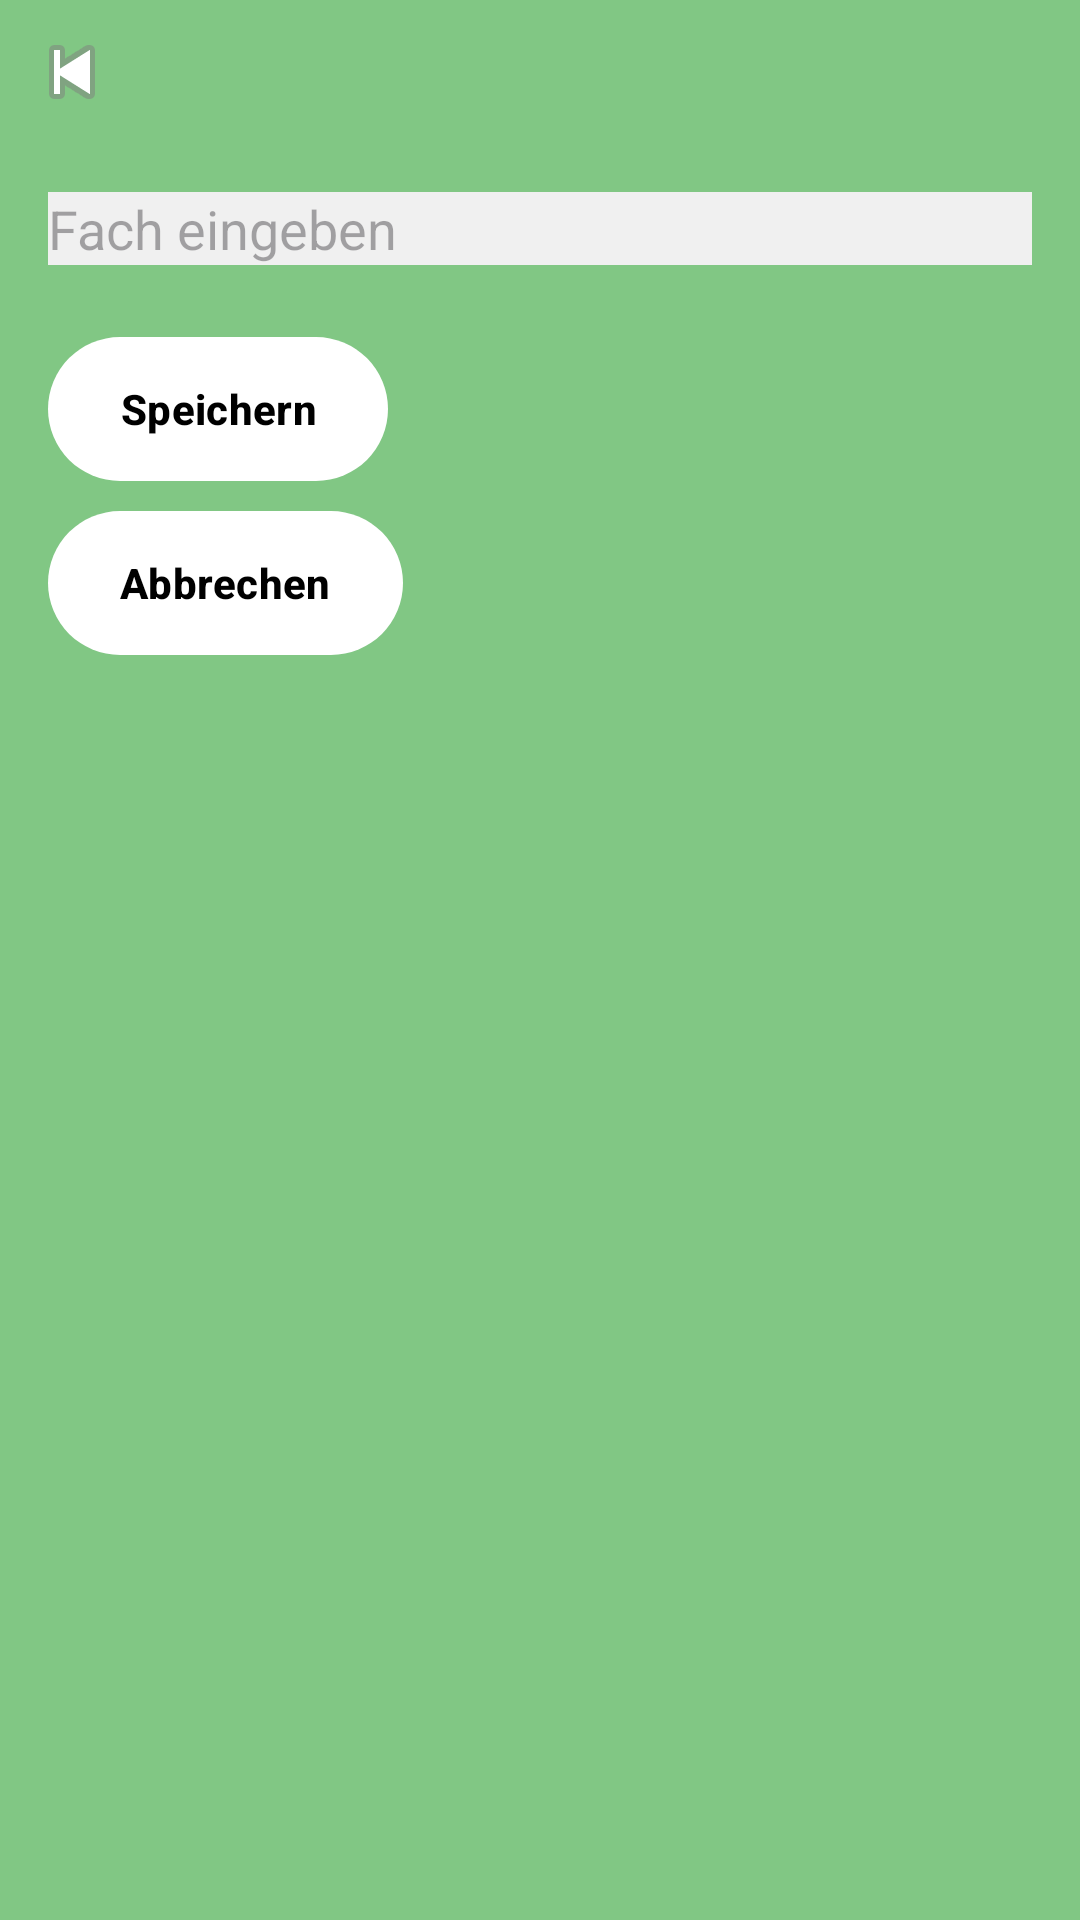

Where icons sit on this 1080 × 1920 app screen, as (x1, y1, x2, y2):
Zurück: (49, 45, 95, 99)
